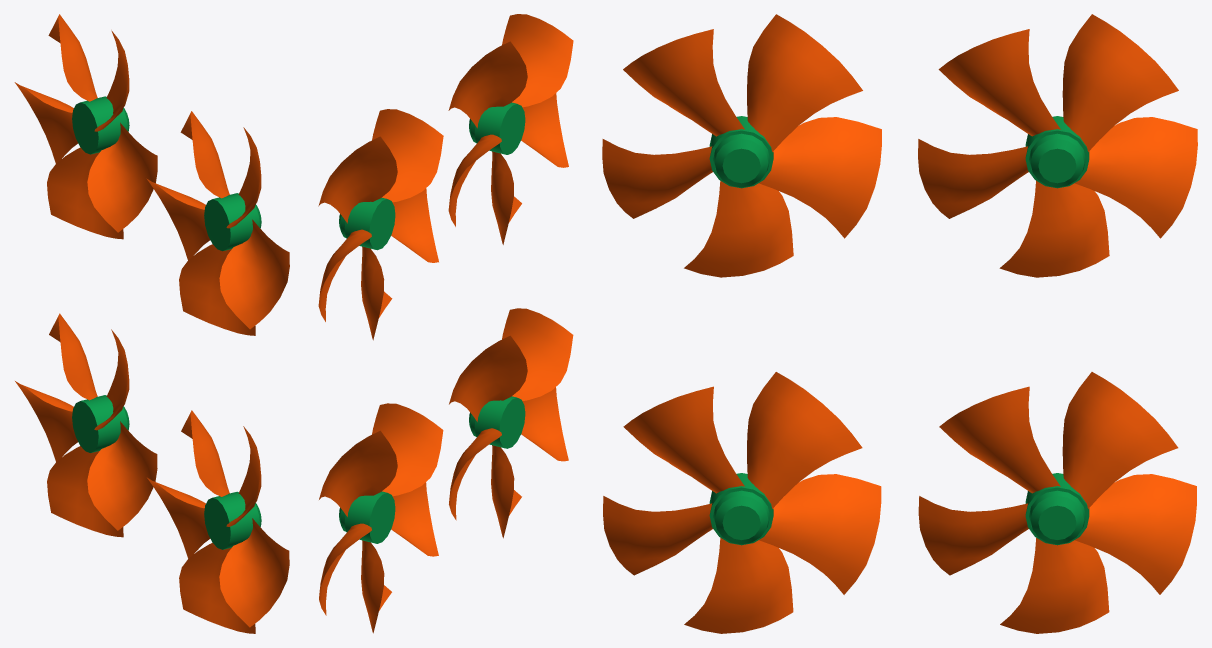
The model's file is ventilatorOutSide_lopasti.FBX.
The picture shows the model from 3 angles, left to right: view 1: azimuth 30°, elevation 25°; view 2: azimuth 150°, elevation 25°; view 3: azimuth 270°, elevation 25°; orthographic projection. The views are drawn at different scales.
Visible parts, largest first — view 1: ventOutSide_lopast_1, ventOutSide_lopast_002, ventOutSide_lopast_004, ventOutSide_lopast_003; view 2: ventOutSide_lopast_002, ventOutSide_lopast_1, ventOutSide_lopast_003, ventOutSide_lopast_004; view 3: ventOutSide_lopast_002, ventOutSide_lopast_1, ventOutSide_lopast_003, ventOutSide_lopast_004.
Boxes of the visible parts, <box> form: ventOutSide_lopast_1: <box>146,111,289,335</box>; ventOutSide_lopast_002: <box>14,14,157,239</box>; ventOutSide_lopast_004: <box>147,410,289,633</box>; ventOutSide_lopast_003: <box>15,313,157,537</box>; ventOutSide_lopast_002: <box>318,109,443,340</box>; ventOutSide_lopast_1: <box>448,14,573,244</box>; ventOutSide_lopast_003: <box>319,403,443,633</box>; ventOutSide_lopast_004: <box>449,308,573,538</box>; ventOutSide_lopast_002: <box>918,14,1197,277</box>; ventOutSide_lopast_1: <box>602,14,881,277</box>; ventOutSide_lopast_003: <box>918,372,1196,633</box>; ventOutSide_lopast_004: <box>603,372,881,633</box>.
Size of the model in its own units: 106 by 935 by 831.
